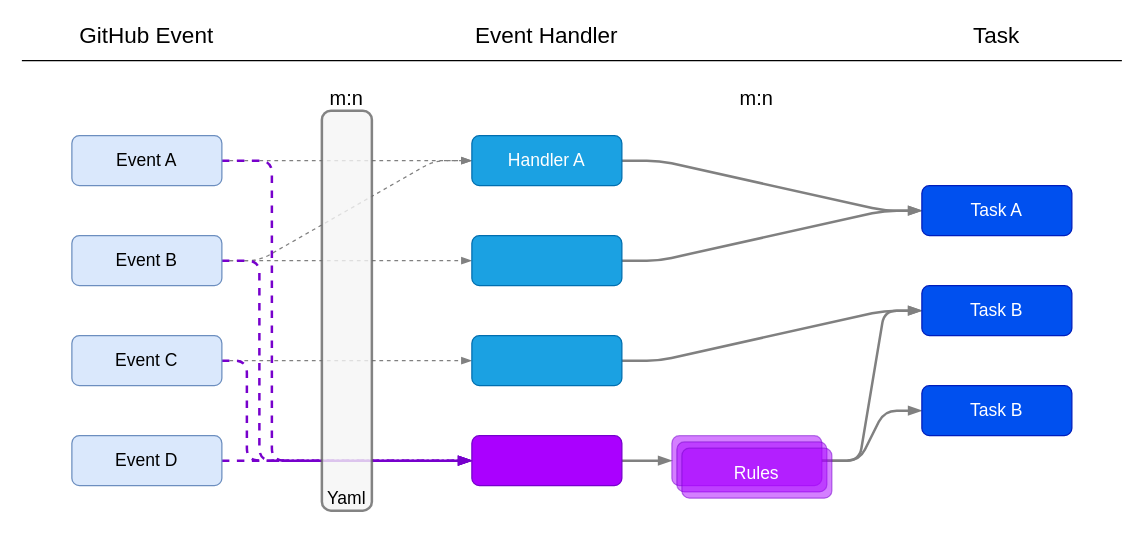
Image size: 1145x533. Some labels were removed from this diagram. Each missing label, with the centre of its shape:
"Event Mapping" belongs at (346,310).
"Handler B" belongs at (546,260).
"Handler C" belongs at (546,360).
"Rules Engine" belongs at (546,460).
